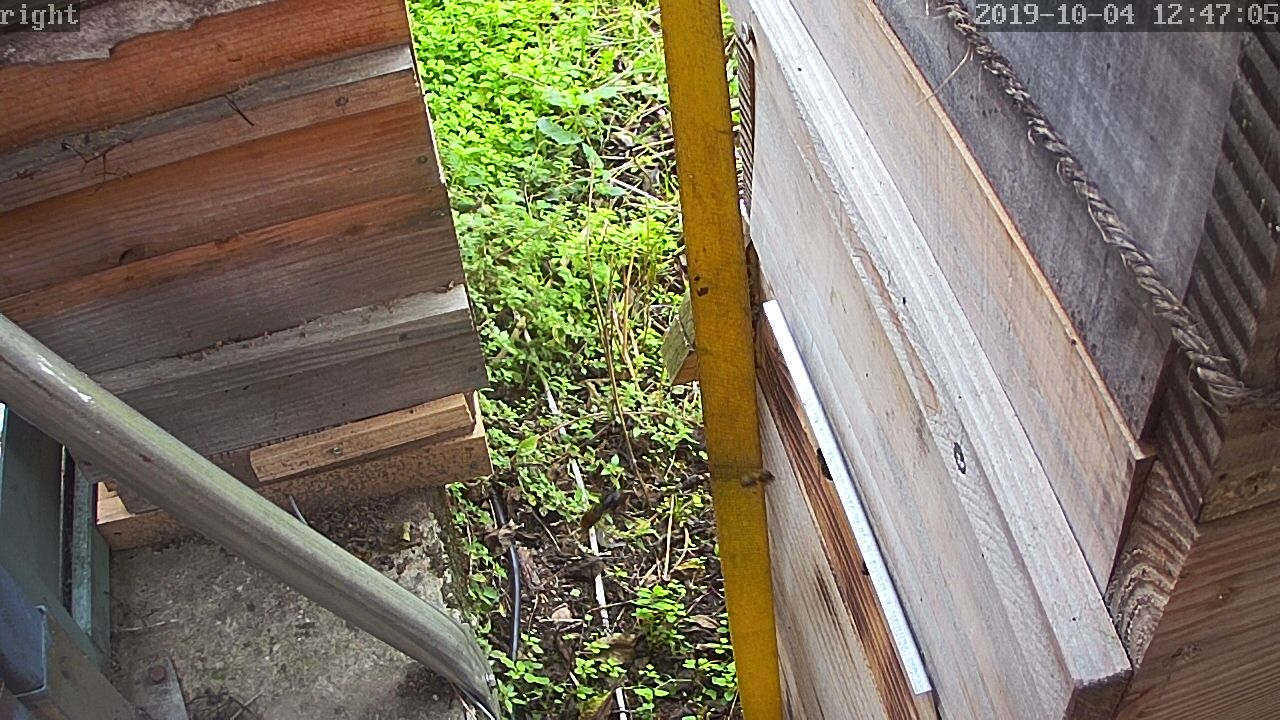hornet: (692, 447, 724, 490)
